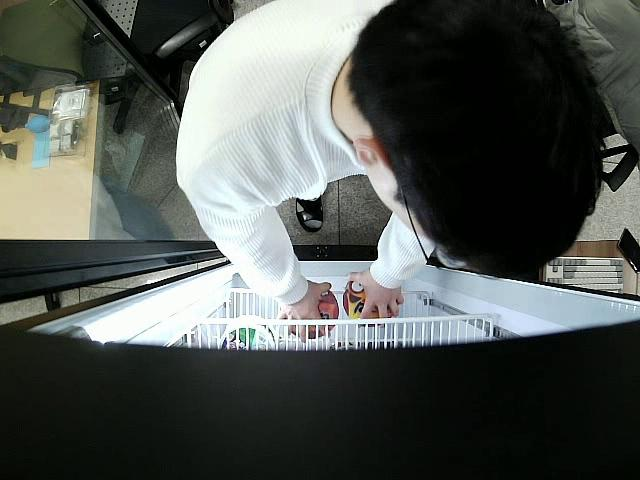00_hand: (347, 269, 404, 329), (275, 282, 331, 340)
05_nuguri_L: (344, 280, 401, 327), (287, 291, 339, 341)
